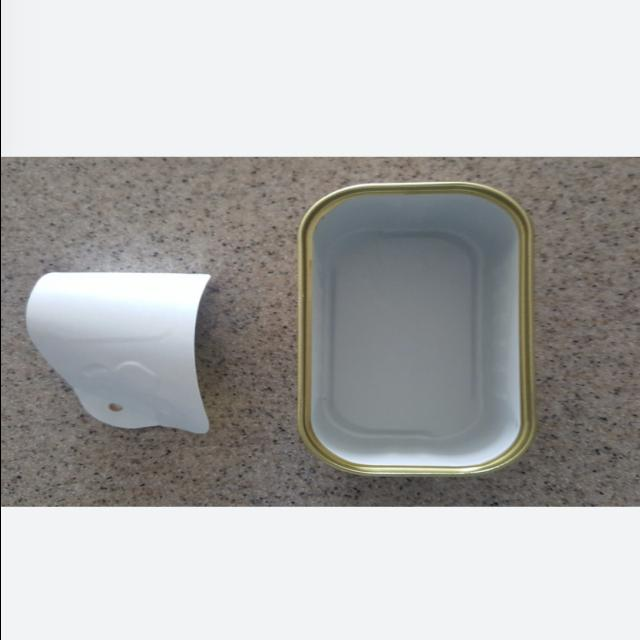can: (284, 171, 558, 488), (12, 247, 239, 454)
